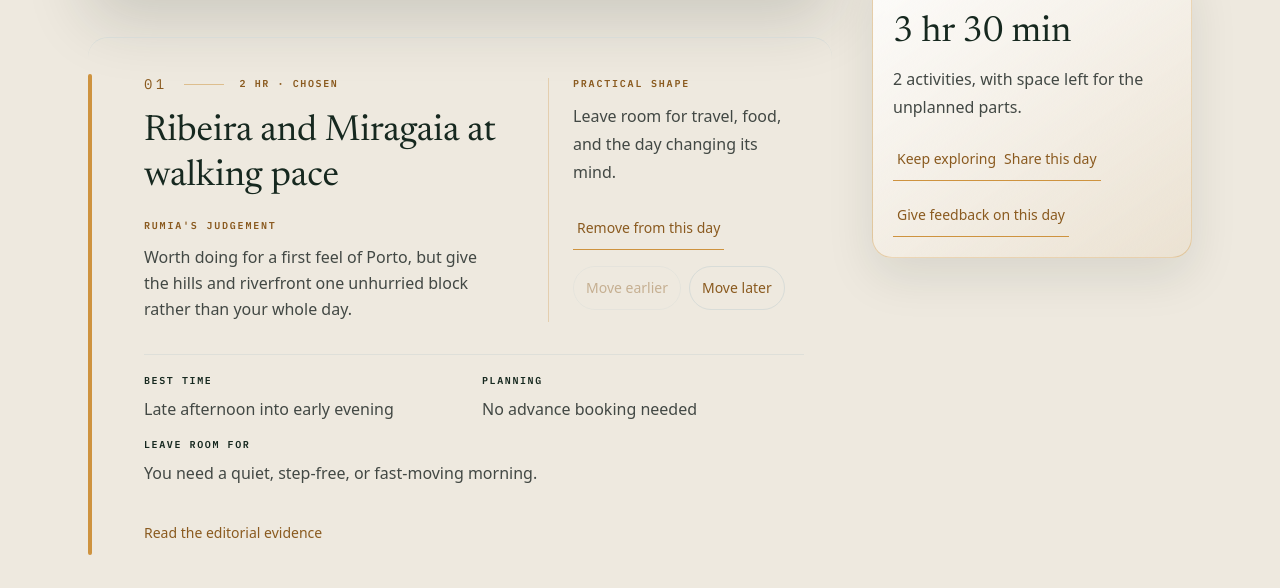
it: ActivityWorkspace › keeps a chosen day specific and makes removing an activity reversible
(page scrolled)
Expected: the heading "Ribeira and Miragaia at walking pace" is shown, [144,110,500,200]
Expected: the text with test id "workspace-activity-index" reads "01", [144,75,168,93]
Click the button with aria-label "Remove Ribeira and Miragaia at walking pace" at x=649, y=228, box [573,206,724,250]
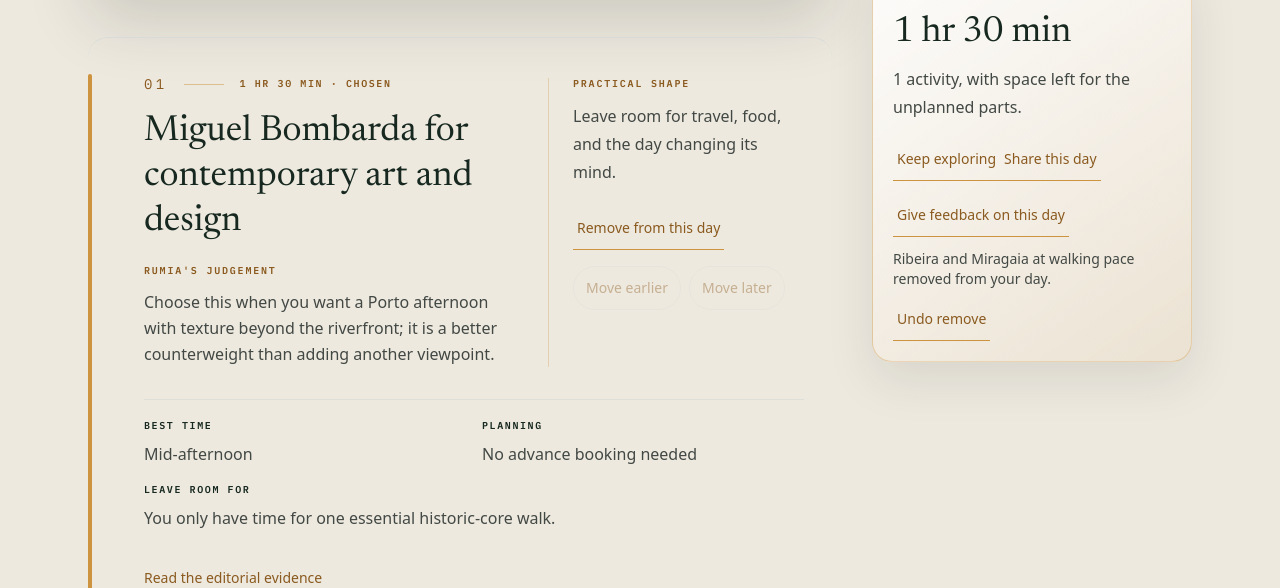
Expected: the message with test id "workspace-status" shows "removed from your day", [893,249,1134,288]
Click the button "Undo remove" at x=942, y=319, box [893,297,990,341]
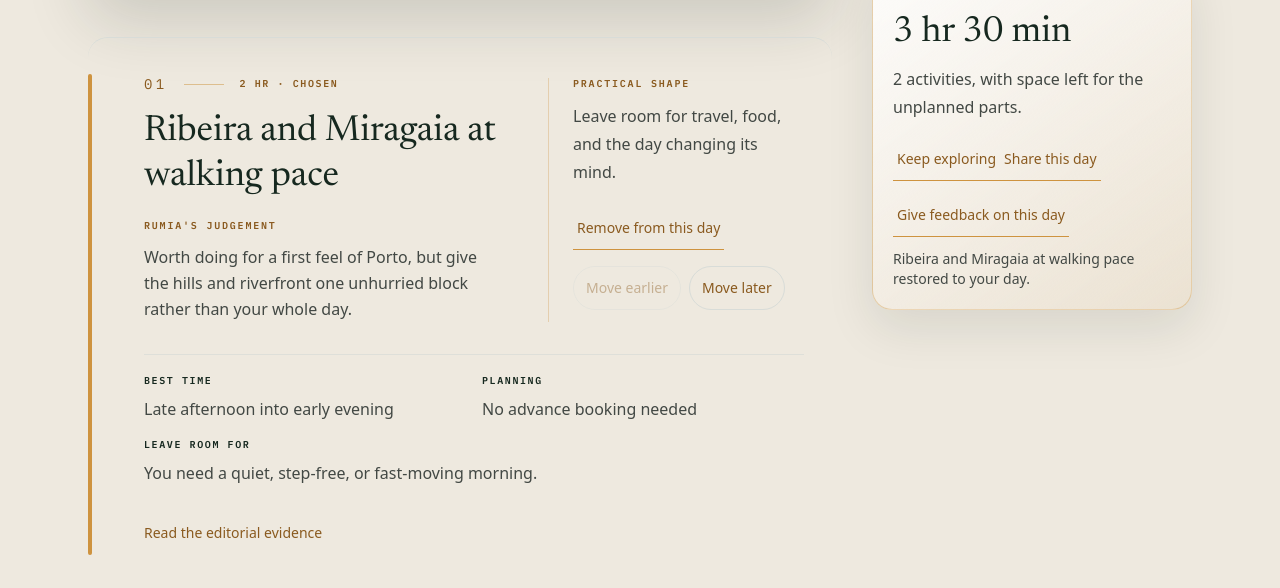
Expected: the link "Keep exploring" is shown, [893,137,1000,181]
Expected: the heading "Ribeira and Miragaia at walking pace" is shown, [144,110,500,200]
Expected: the message with test id "workspace-status" shows "restored to your day", [893,249,1134,288]
